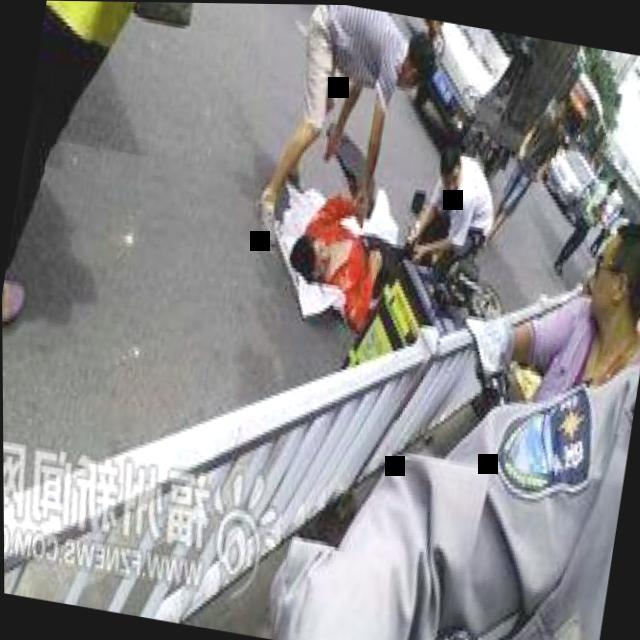Fall-Detected: (275, 168, 442, 334)
